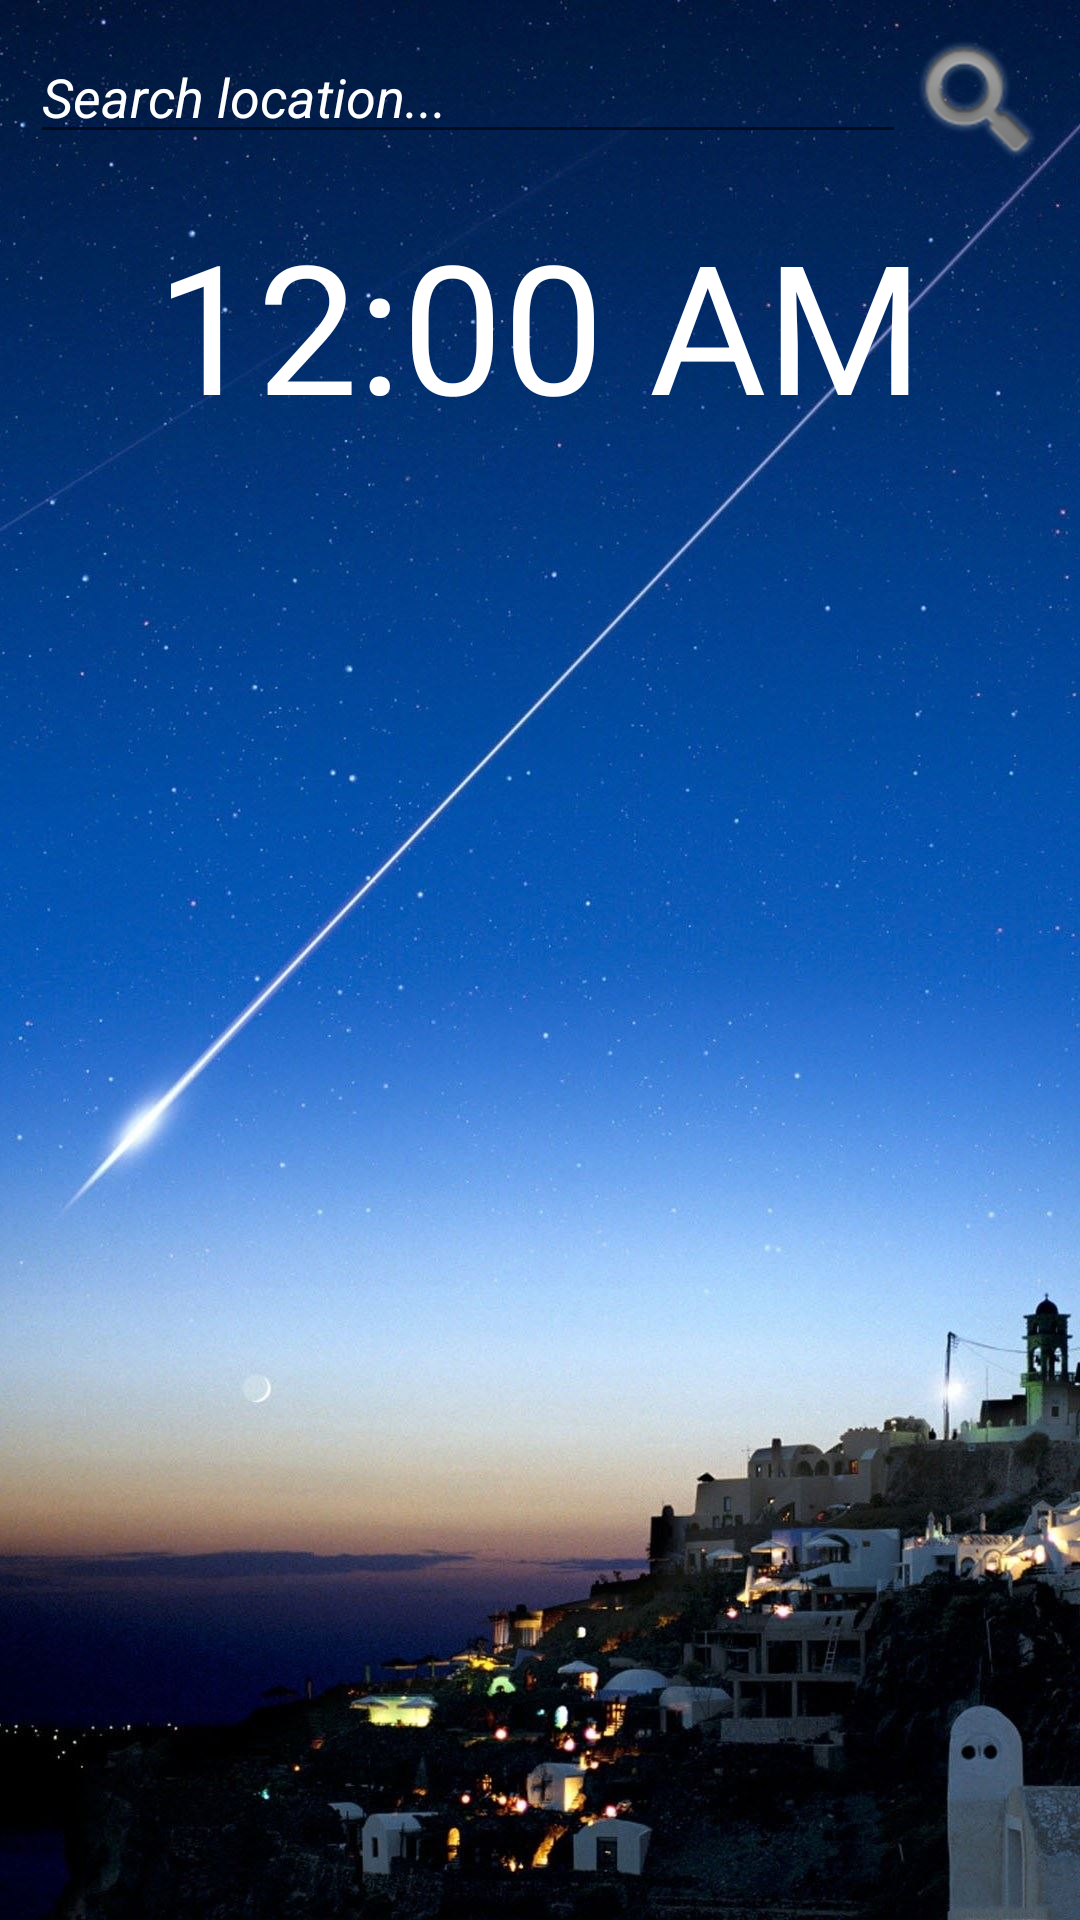

Named icons in this screenshot (1080px×1920px) and their bounding boxes, (x1, y1, x2, y2):
search category: (911, 36, 1048, 174)
